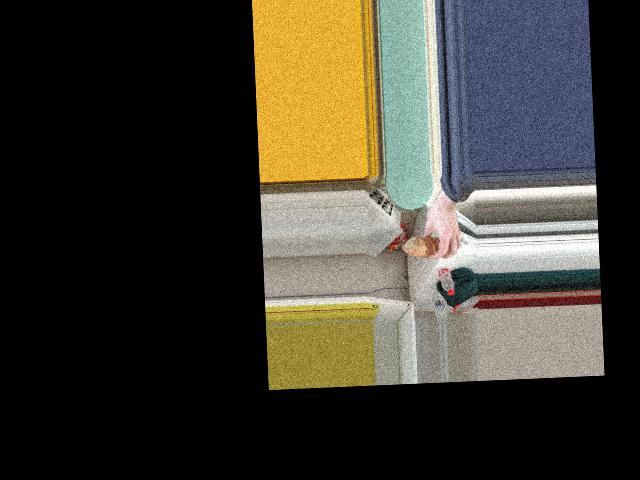sweet_potato: (410, 236, 442, 258)
